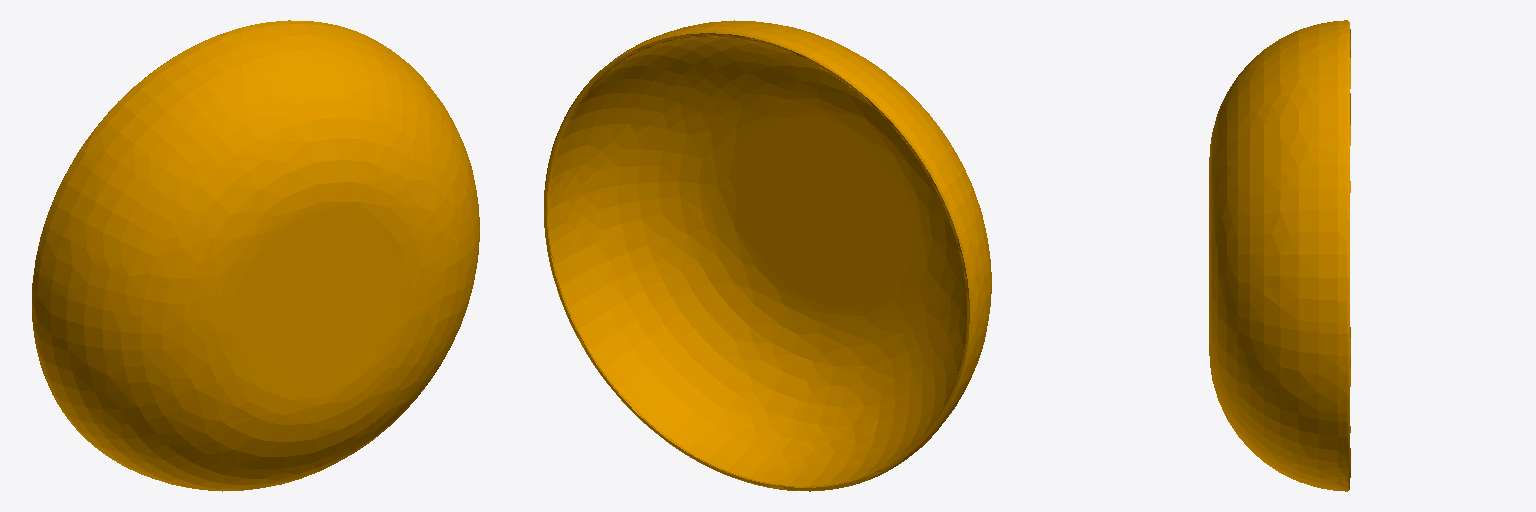
robot.urdf — bigbowl:
<?xml version="1.0"?>
<robot name="bigbowl">
  <link name="bigbowl">
    <visual>
      <origin xyz="0.0 0.0 0.0"/>
      <geometry>
        <mesh filename="bigbowl.obj" scale="1.0 1.0 1.0"/>
      </geometry>
    </visual>
    <collision>
      <origin xyz="0.0 0.0 0.0"/>
      <geometry>
        <mesh filename="bigbowl.obj" scale="1.0 1.0 1.0"/>
      </geometry>
    </collision>
    <inertial>
      <!-- Mass value from the *empty* spam can. Full spam can is 368g -->
      <mass value="0.026"/> 
      <inertia ixx="0.0001" ixy="0.0" ixz="0.0" iyy="0.0001" iyz="0.0" izz="0.0001"/>
    </inertial>
  </link>
</robot>

--- Render facts (derived) ---
3 views of the same robot in one strip: view 1: azimuth 30°, elevation 25°; view 2: azimuth 150°, elevation 25°; view 3: azimuth 270°, elevation 25° (orthographic).
Robot: bigbowl — 1 links, 0 joints (none); root link bigbowl; default pose: every joint at zero.
Links seen in each view (by area): view 1: bigbowl; view 2: bigbowl; view 3: bigbowl.
Link boxes in pixels (left/top/right/bottom): bigbowl: left=32, top=20, right=479, bottom=491; bigbowl: left=544, top=20, right=991, bottom=491; bigbowl: left=1209, top=20, right=1350, bottom=491.
Size in the robot's own frame: 0.3003 by 0.0901 by 0.3002 metres.
1 mesh visuals loaded from 1 distinct referenced files (1 OBJ).